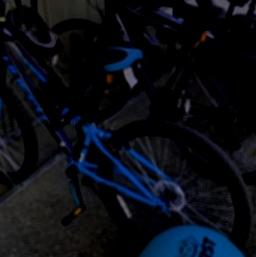algae: (125, 222, 256, 257)
